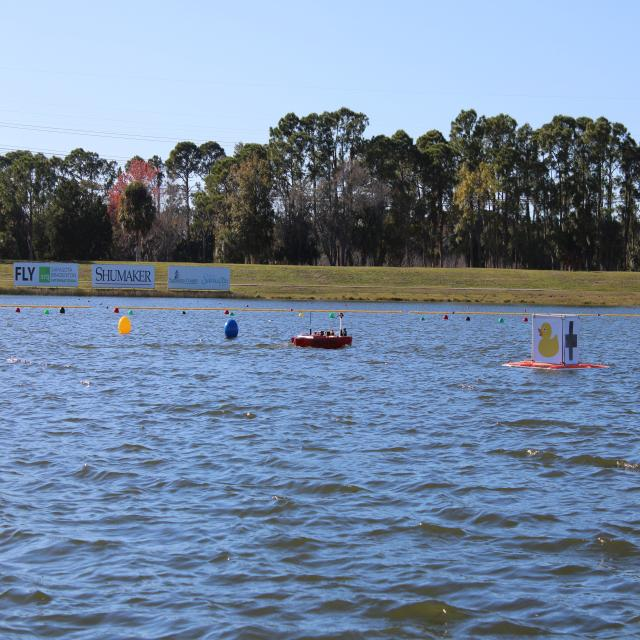blue-buoy: (224, 316, 239, 341)
yellow-buoy: (118, 314, 131, 336)
yellow-duck: (537, 322, 559, 361)
